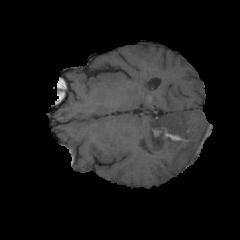glioma: (137, 109, 210, 164)
